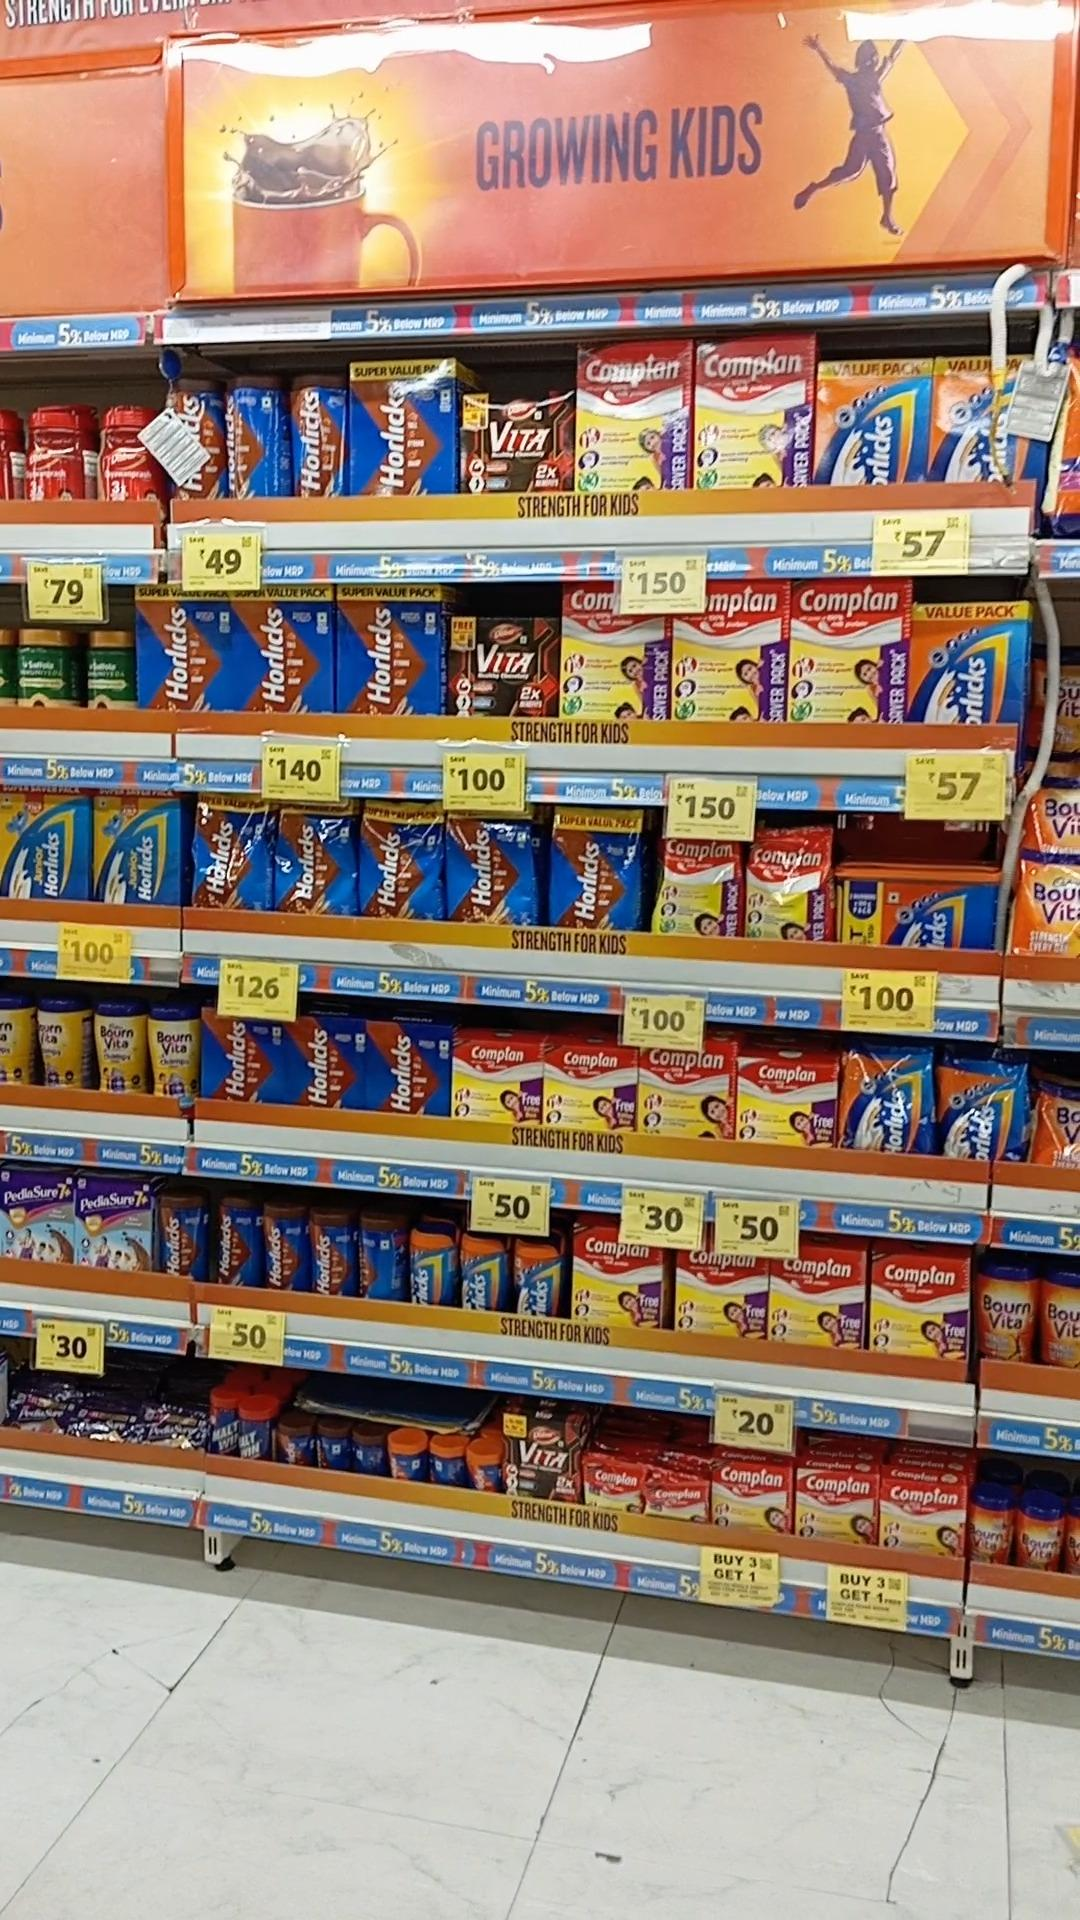BOURN_VITA_200_G_JAR: (1017, 1494, 1063, 1572), (968, 1491, 1010, 1564)
BOURN_VITA_500_G_JAR: (976, 1263, 1033, 1365), (1039, 1263, 1080, 1370)
BOURN_VITA_CHAMPS_500_G_JAR: (95, 998, 146, 1098), (149, 1000, 196, 1108), (33, 994, 78, 1091)
COMPLAN_CHOCOLATE_1_KG_PACK: (692, 335, 814, 493), (575, 340, 690, 498), (671, 582, 789, 720), (793, 580, 902, 723), (563, 579, 666, 721)
COMPLAN_CHOCOLATE_200_GMS_PACK: (713, 1461, 790, 1528)
COMPLAN_CHOCOLATE_500_GMS_PACK: (868, 1254, 967, 1360), (570, 1222, 661, 1332), (543, 1043, 637, 1129), (452, 1040, 542, 1126)
COMPLAN_CREAMY_CLASSIC_500_G_PACK: (737, 1058, 837, 1146)
COMPLAN_KESAR_BADAM_200_GMS_PACK: (795, 1465, 877, 1542)
COMPLAN_RC_POUCH_700_GMS_12: (746, 828, 828, 939), (655, 837, 741, 935)
HORLICK_CHOCOLATE_1_KG_JAR: (164, 375, 220, 500), (287, 368, 335, 497), (224, 369, 272, 496)
HORLICK_CHOCOLATE_1_KG_PACK: (348, 359, 454, 500), (334, 587, 438, 713), (135, 575, 228, 708), (233, 585, 331, 709)
HORLICK_CHOCOLATE_500_G_JAR: (157, 1191, 207, 1284), (309, 1207, 353, 1298), (212, 1195, 255, 1290), (262, 1201, 303, 1290)
HORLICK_CHOCOLATE_500_G_PACK: (286, 1007, 365, 1109), (369, 1026, 451, 1114), (206, 1013, 274, 1098)
HORLICK_CHOCOLATE_750_G_POUCH: (549, 802, 646, 926), (447, 806, 538, 923), (277, 796, 353, 916), (193, 794, 273, 907), (360, 796, 435, 916)
HORLICK_CLASSIC_MALT_500_G_JAR: (406, 1224, 456, 1309), (510, 1240, 564, 1315), (458, 1236, 509, 1311)
HORLICK_CLASSIC_MALT_500_G_PACK: (818, 361, 931, 481), (907, 604, 1021, 724), (940, 356, 1044, 484)
HORLICK_CLASSIC_MALT_750_G_POUCH: (847, 1051, 932, 1160), (940, 1059, 1023, 1162)
HORLICK_MALT_1_KG_CONTAINER: (841, 881, 1000, 949)
PEDIASURE_7_PLUS_CHOCOLATE_400_G_PACK: (73, 1171, 145, 1269), (0, 1168, 71, 1263)
